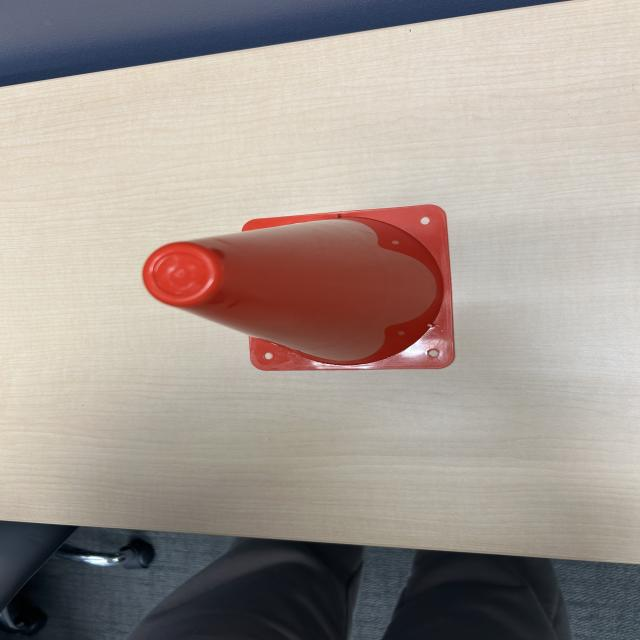orange cone: (129, 200, 463, 372)
